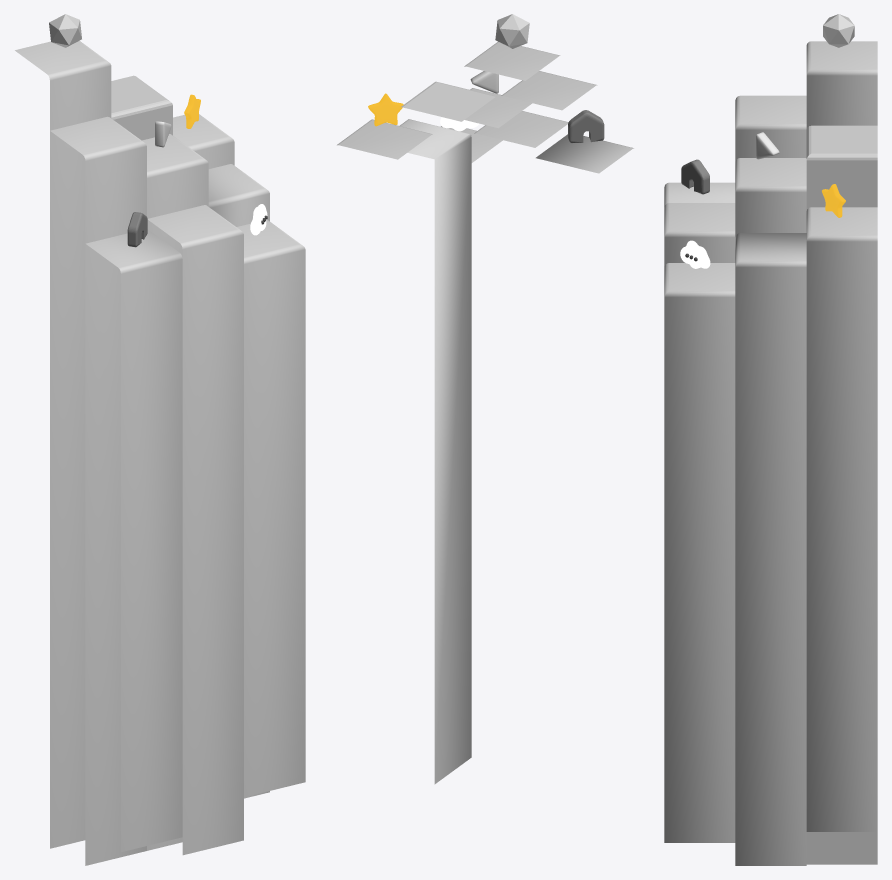
3 views of the same model, side by side, from view 1: azimuth 30°, elevation 25°; view 2: azimuth 150°, elevation 25°; view 3: azimuth 270°, elevation 25° (orthographic). The views are drawn at different scales.
Visible parts, largest first — view 1: Cube.007, Cube.008, Cube.006, Cube, Cube.005, Cube.004, Cube.001, Cube.003, Cube.002, Icosphere, house; view 2: Cube.003, Cube.001, Cube.002, Cube.005, Cube.008, Cube, Cube.007, Cube.004, house, Icosphere, star, Cube.006; view 3: Cube.003, Cube.002, Cube.006, Cube.001, Cube, Cube.004, Cube.007, Cube.005, Cube.008, Icosphere, house, cloud (+2 smaller).
Boxes of the visible parts, bbox=[...] form: Cube.007: bbox=[147, 205, 243, 855]; Cube.008: bbox=[86, 229, 182, 852]; Cube.006: bbox=[236, 220, 305, 796]; Cube: bbox=[15, 41, 111, 848]; Cube.005: bbox=[50, 116, 146, 865]; Cube.004: bbox=[142, 134, 208, 850]; Cube.001: bbox=[111, 75, 172, 140]; Cube.003: bbox=[208, 164, 269, 798]; Cube.002: bbox=[173, 114, 234, 168]; Icosphere: bbox=[49, 14, 81, 47]; house: bbox=[127, 212, 147, 247]; Cube.003: bbox=[399, 119, 471, 784]; Cube.001: bbox=[401, 81, 496, 121]; Cube.002: bbox=[337, 119, 432, 159]; Cube.005: bbox=[501, 71, 597, 110]; Cube.008: bbox=[536, 134, 633, 173]; Cube: bbox=[464, 42, 560, 80]; Cube.007: bbox=[474, 111, 568, 147]; Cube.004: bbox=[464, 88, 532, 128]; house: bbox=[568, 110, 604, 143]; Icosphere: bbox=[495, 14, 529, 48]; star: bbox=[368, 93, 403, 126]; Cube.006: bbox=[441, 126, 502, 162]; Cube.003: bbox=[735, 233, 806, 865]; Cube.002: bbox=[806, 207, 877, 831]; Cube.006: bbox=[664, 263, 735, 829]; Cube.001: bbox=[806, 125, 877, 864]; Cube: bbox=[806, 41, 877, 128]; Cube.004: bbox=[735, 158, 806, 236]; Cube.007: bbox=[664, 203, 735, 842]; Cube.005: bbox=[735, 95, 806, 161]; Cube.008: bbox=[664, 182, 735, 206]; Icosphere: bbox=[823, 14, 854, 47]; house: bbox=[681, 159, 709, 194]; cloud: bbox=[680, 240, 710, 268].
Size of the model in its own units: 60 by 253 by 60.
